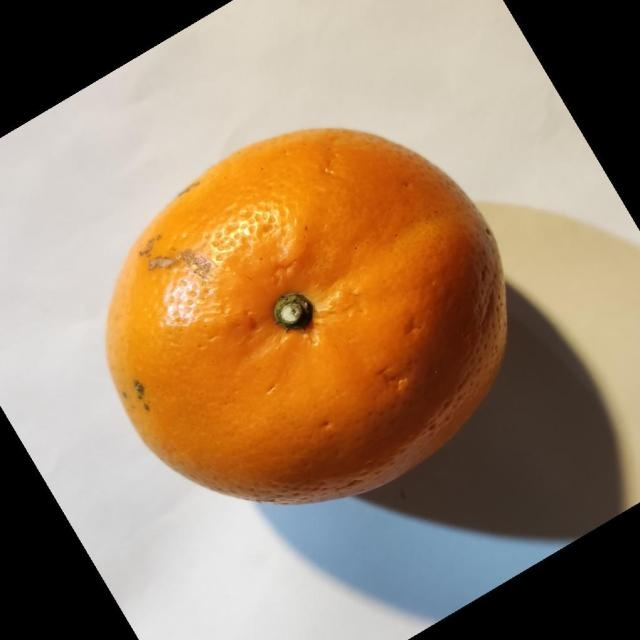agrume: (104, 126, 508, 506)
